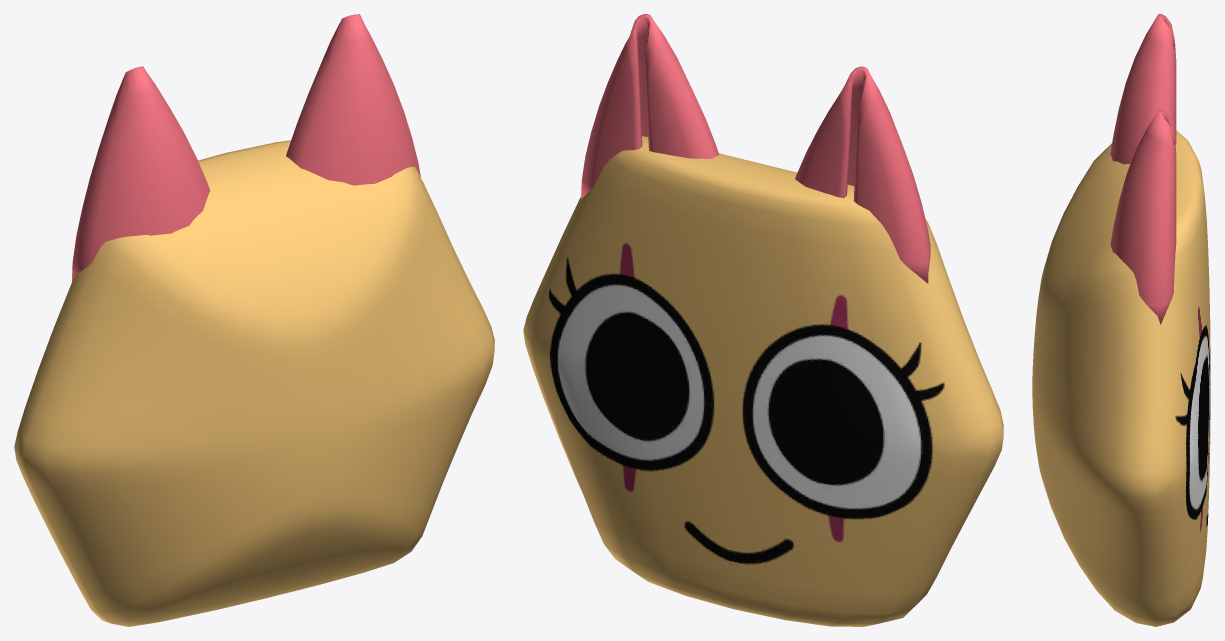
Rendered from Scraps.glb.
3 renders of one model, left to right at view 1: azimuth 30°, elevation 25°; view 2: azimuth 150°, elevation 25°; view 3: azimuth 270°, elevation 25°, orthographic. The views are drawn at different scales.
Parts seen in each view (by area): view 1: Scraps Head; view 2: Scraps Head; view 3: Scraps Head.
Boxes of the visible parts, bbox=[...] form: Scraps Head: bbox=[14, 14, 494, 626]; Scraps Head: bbox=[523, 14, 1003, 626]; Scraps Head: bbox=[1032, 14, 1210, 626].
Bounding box in the file's own units: 2.56 × 2.89 × 0.9136.
1 material, 1 textured.
